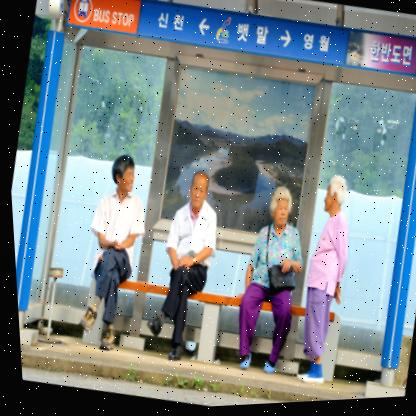person: (54, 127, 170, 353), (279, 157, 367, 386), (145, 152, 235, 361), (229, 176, 316, 372)
